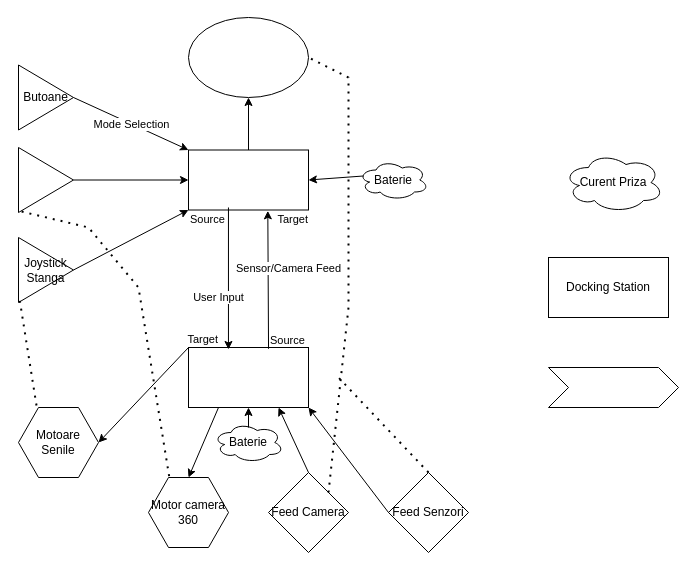
The diagram is 696 pixels wide and 570 high, and some of its shapes have lost their labels. Each missing label, with the centre of its shape:
Ecran: (x=248, y=57)
Joystick Dreapta: (x=46, y=179)
Masina: (x=248, y=377)
Senzori aliniere: (x=613, y=387)
Telcomanda: (x=248, y=179)
